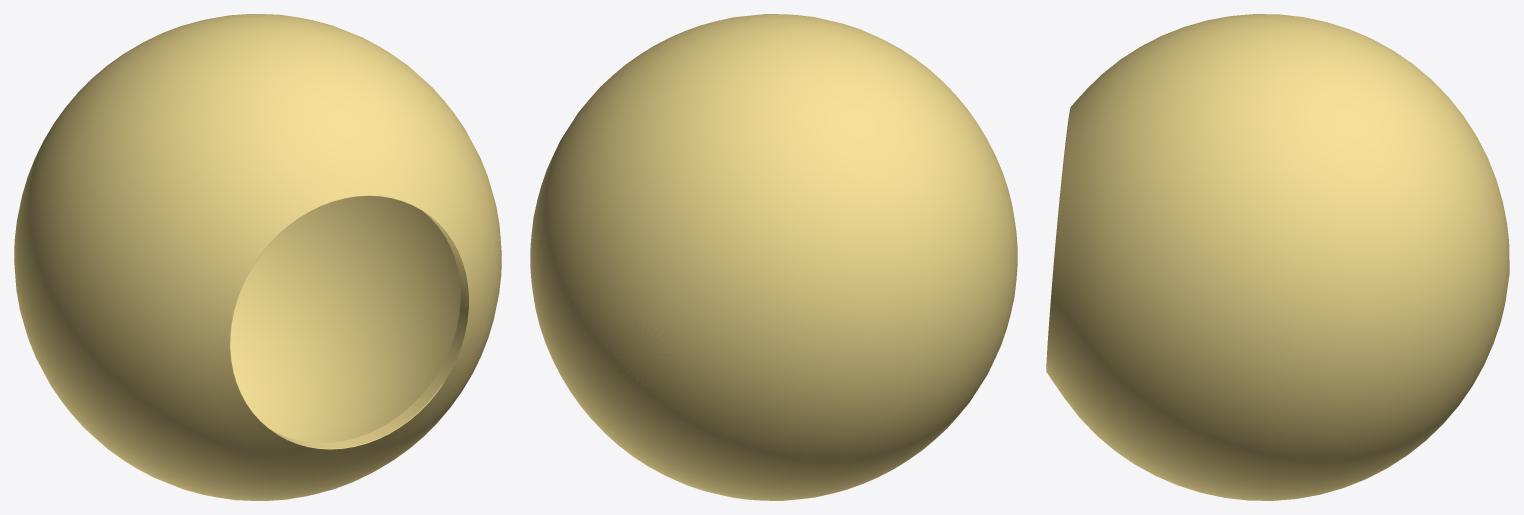
The picture shows the model from 3 angles, left to right: view 1: azimuth 30°, elevation 25°; view 2: azimuth 150°, elevation 25°; view 3: azimuth 270°, elevation 25°; orthographic projection.
Visible parts, largest first — view 1: ZA_939cbc21e227569e; view 2: ZA_939cbc21e227569e; view 3: ZA_939cbc21e227569e.
Part boxes in pixels (x1,y1,x2,y2): ZA_939cbc21e227569e: (14, 14, 501, 500); ZA_939cbc21e227569e: (530, 14, 1017, 500); ZA_939cbc21e227569e: (1046, 14, 1509, 500).
Bounding box in the file's own units: 0.0262 × 0.0262 × 0.025.
